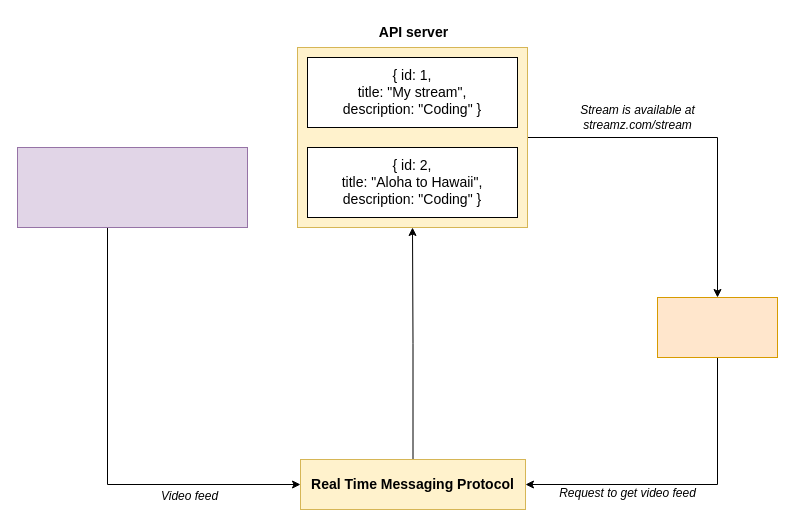
Some shapes in this 795 by 529 pixel diagram are drawn without their labels. The shapes that lost their labels are listed below. From the top down, each one's centre as x and y in pixels, then its label:
At pixel 132 187: "Streamer's computer Open Broadcaster Software OBS".
At pixel 717 327: "React App".
